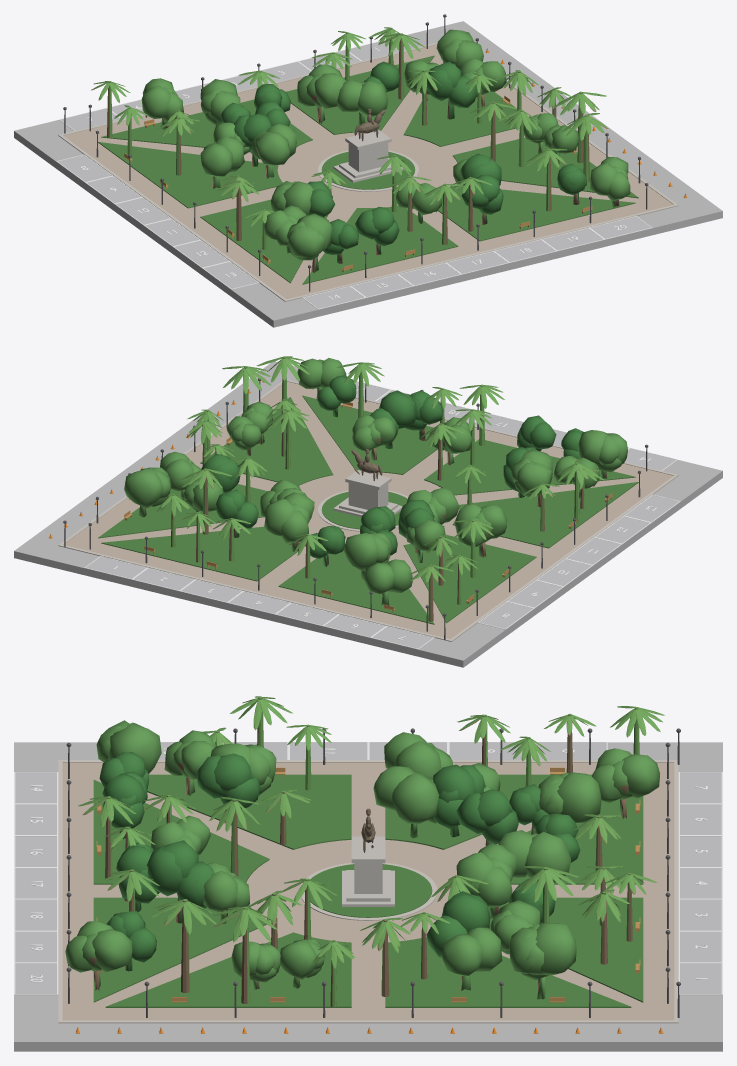
File: plaza-sucre.glb
3 renders of one model, top to bottom at view 1: azimuth 30°, elevation 25°; view 2: azimuth 150°, elevation 25°; view 3: azimuth 270°, elevation 25°, orthographic. The views are drawn at different scales.
Visible parts, largest first — view 1: Plaza_Adoquin, Losa_Base, Jardin_4, Jardin_7, Jardin_6, Jardin_1, Bordillo, Jardin_5, Jardin_8, Jardin_3, Estatua_Pedestal, Jardin_2 (+59 smaller); view 2: Plaza_Adoquin, Losa_Base, Jardin_2, Jardin_4, Jardin_5, Jardin_3, Jardin_8, Jardin_7, Jardin_6, Bordillo, Jardin_1, Arbol.005 (+60 smaller); view 3: Plaza_Adoquin, Losa_Base, Jardin_1, Jardin_5, Jardin_8, Jardin_2, Jardin_7, Bordillo, Jardin_3, Jardin_6, Arbol.001, Estatua_Cesped (+73 smaller).
Boxes of the visible parts, x1,y1,x2,y2 form: Plaza_Adoquin: [58, 44, 678, 301]; Losa_Base: [14, 21, 722, 327]; Jardin_4: [98, 142, 282, 208]; Jardin_7: [438, 185, 635, 241]; Jardin_6: [302, 206, 458, 284]; Jardin_1: [403, 63, 516, 146]; Bordillo: [58, 42, 678, 301]; Jardin_5: [200, 199, 328, 283]; Jardin_8: [452, 137, 638, 198]; Jardin_3: [101, 99, 312, 152]; Estatua_Pedestal: [333, 130, 403, 182]; Jardin_2: [286, 55, 434, 134]; Plaza_Adoquin: [58, 381, 678, 641]; Losa_Base: [14, 361, 722, 667]; Jardin_2: [101, 526, 305, 581]; Jardin_4: [403, 534, 536, 623]; Jardin_5: [452, 482, 638, 548]; Jardin_3: [278, 550, 434, 624]; Jardin_8: [200, 397, 333, 485]; Jardin_7: [302, 395, 436, 474]; Jardin_6: [424, 439, 635, 495]; Bordillo: [58, 379, 678, 641]; Jardin_1: [98, 484, 267, 538]; Arbol.005: [264, 492, 314, 551]; Plaza_Adoquin: [58, 762, 678, 1023]; Losa_Base: [14, 742, 722, 1051]; Jardin_1: [385, 937, 631, 1007]; Jardin_5: [147, 774, 351, 849]; Jardin_8: [105, 932, 351, 1007]; Jardin_2: [488, 897, 643, 1002]; Jardin_7: [93, 897, 266, 1002]; Bordillo: [58, 760, 678, 1022]; Jardin_3: [511, 796, 643, 884]; Jardin_6: [93, 780, 269, 884]; Arbol.001: [509, 923, 576, 999]; Estatua_Cesped: [304, 864, 432, 917].
Bounding box in the file's own units: 80 × 13.17 × 80.
